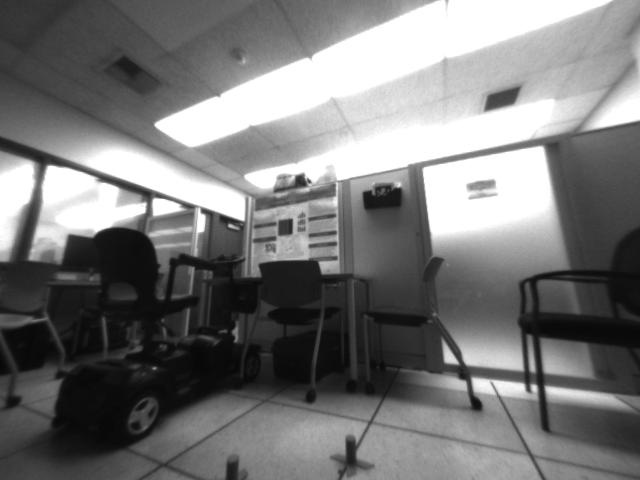X: (333, 434, 373, 475)
